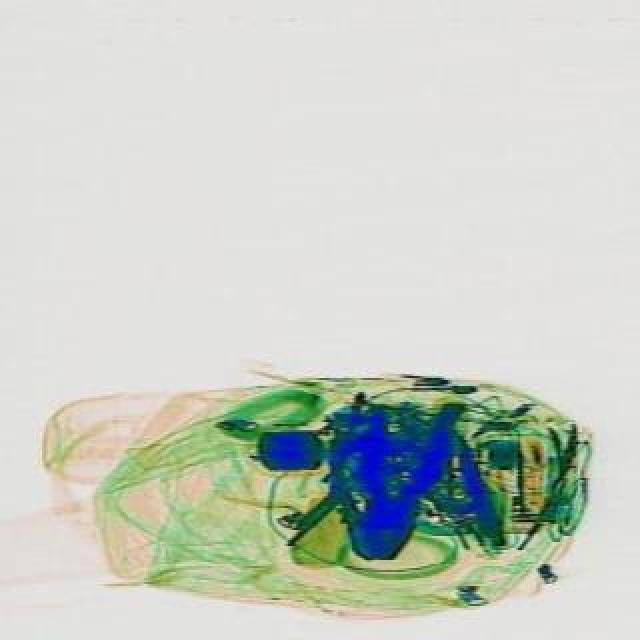wrench: (346, 392, 464, 568)
